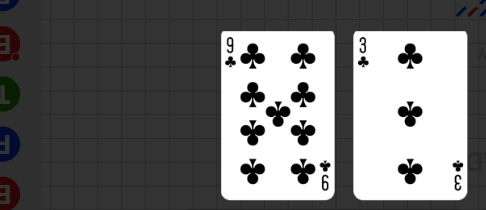3C: (450, 157, 464, 192)
9C: (224, 35, 238, 70)
